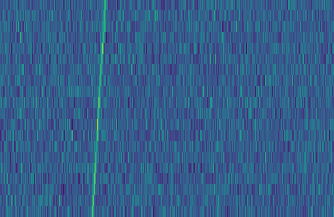signal: (85, 0, 108, 217)
